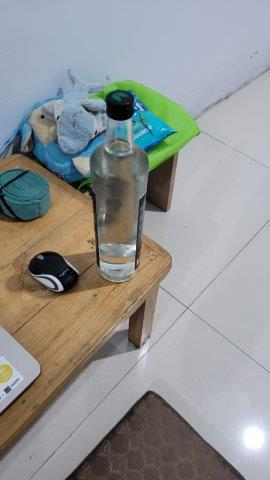botolkaca: (89, 92, 144, 287)
